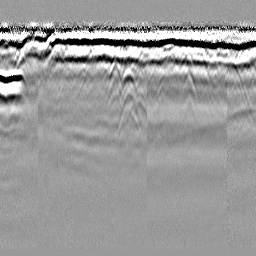cavity: (118, 67, 138, 99)
